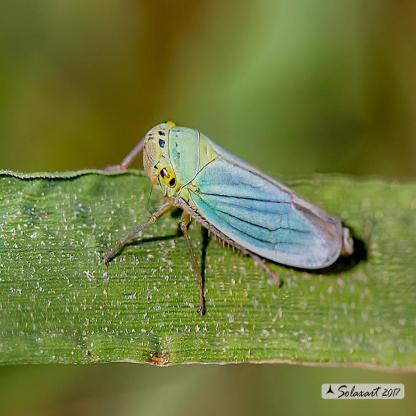Green-Leafhopper: (100, 117, 357, 317)
